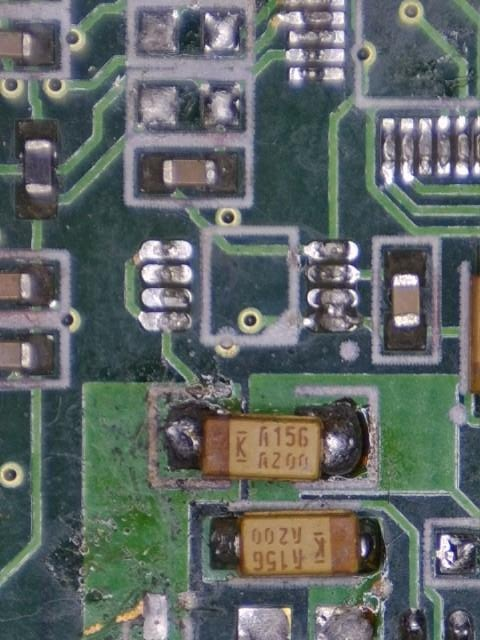pcb_defect: (303, 288, 364, 332)
